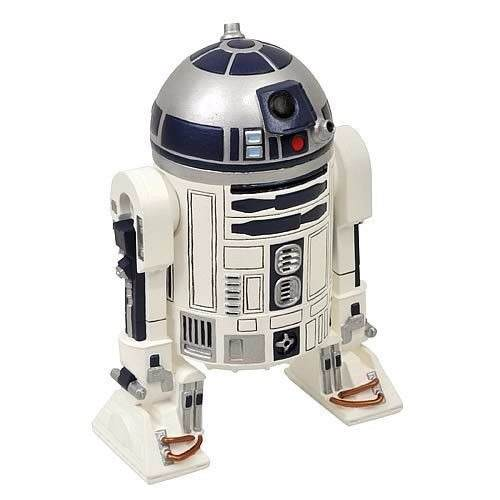r2d2: (90, 23, 402, 484)
